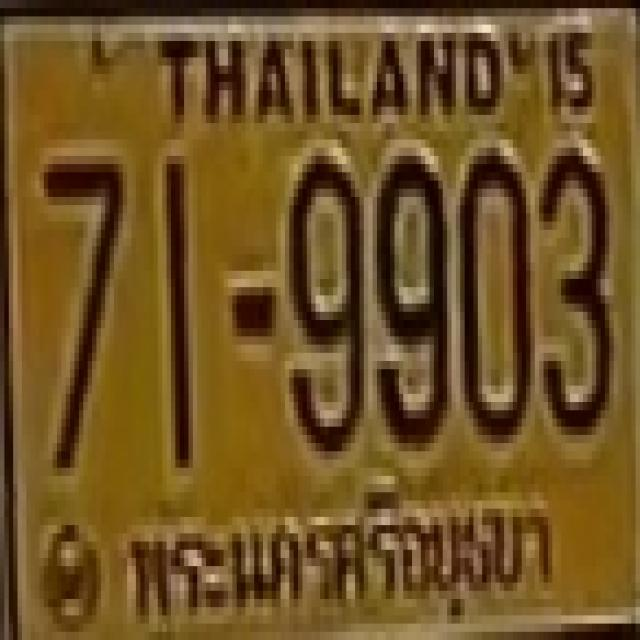0: (456, 148, 526, 435)
1: (162, 160, 189, 464), (164, 156, 187, 459)
3: (539, 148, 609, 426)
7: (40, 152, 119, 464)
9: (285, 148, 359, 451), (372, 148, 442, 443)
AYA: (124, 485, 560, 638)
